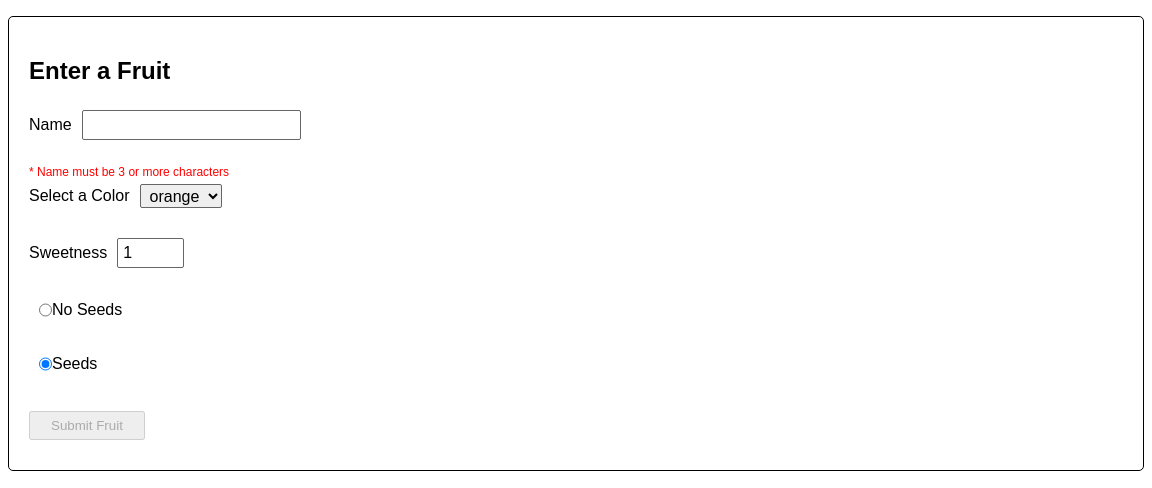
it: (17 points) FruitForm › (4 points) should have a controlled input for Name that shows "Name must be 3 or more characters" error if name is too short
The width and height of the screenshot is (1152, 488).
expect the text "* Name must be 3 or more characters" is shown: met, box [29, 165, 229, 179]
Note: Error should disappear as user types
Type "Plum" into the field labelled "Name". click: (191, 125)
box: [82, 110, 301, 140]
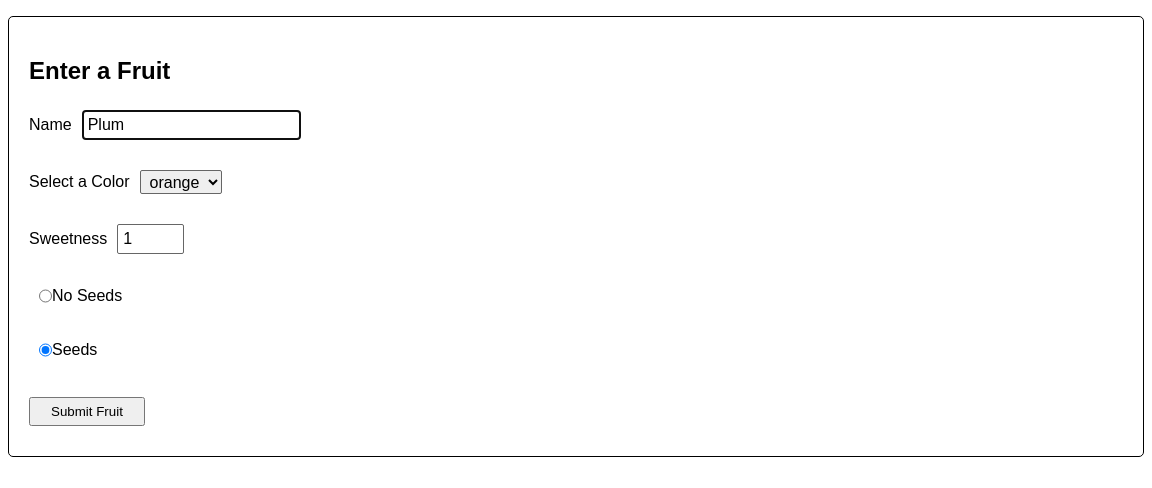
expect the text "Name must be 3 or more characters" is gone: met
